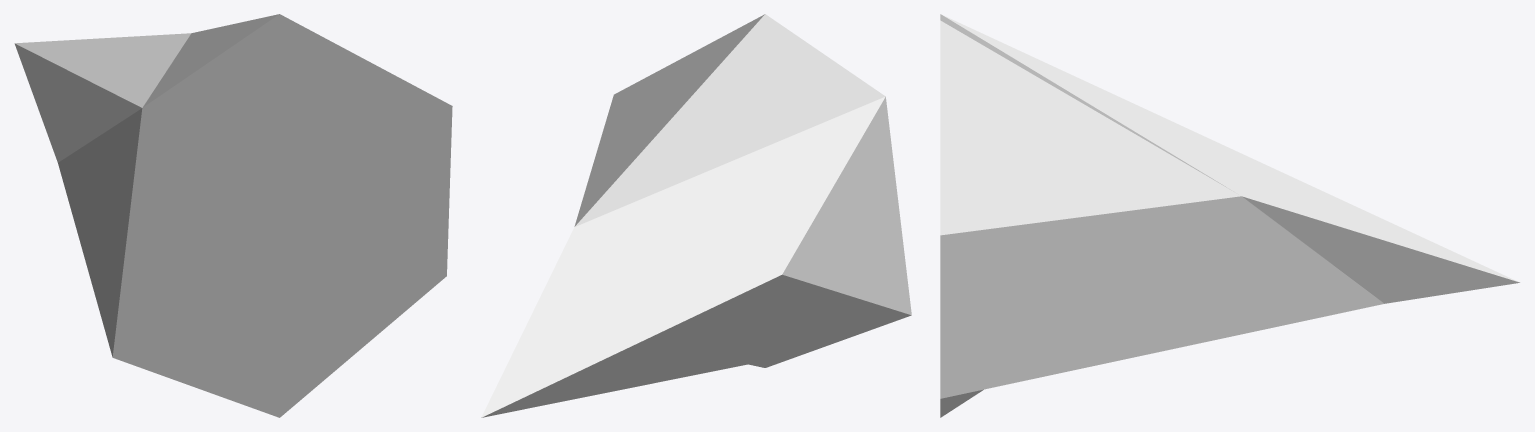
File: winter_night_statue_1.fbx
The picture shows the model from 3 angles, left to right: view 1: azimuth 30°, elevation 25°; view 2: azimuth 150°, elevation 25°; view 3: azimuth 270°, elevation 25°; orthographic projection. The views are drawn at different scales.
Visible parts, largest first — view 1: winter_night_statue_1; view 2: winter_night_statue_1; view 3: winter_night_statue_1.
Part boxes in pixels (x1,y1,x2,y2): winter_night_statue_1: [14, 14, 452, 417]; winter_night_statue_1: [481, 14, 911, 417]; winter_night_statue_1: [940, 14, 1519, 417].
Size of the model in its own units: 101 by 115 by 152.
